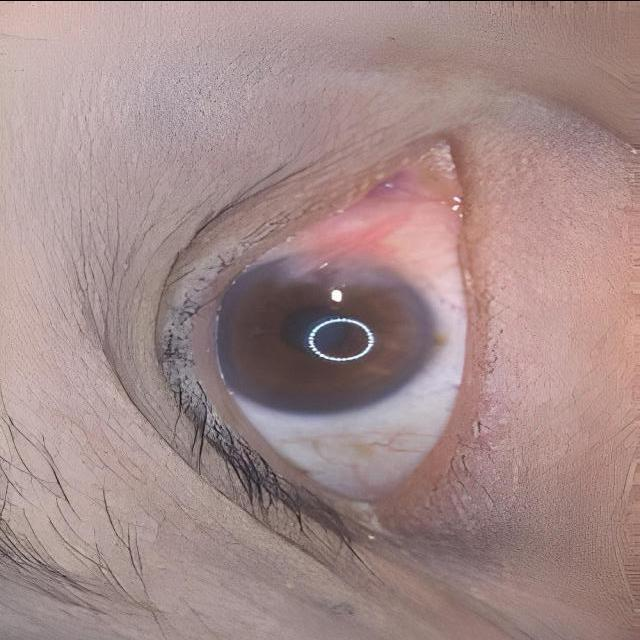Pterygium: (286, 164, 467, 324)
